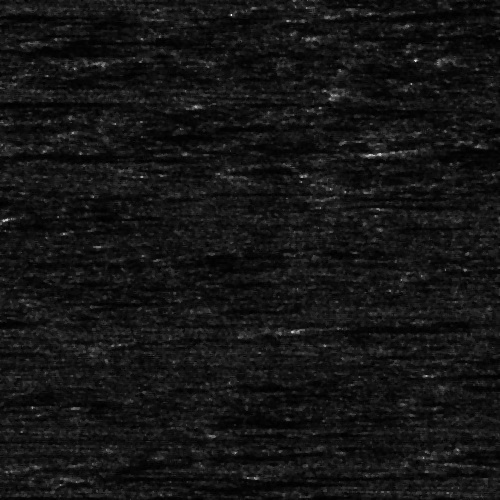object: (236, 319, 351, 336), (399, 450, 492, 459), (371, 144, 444, 155), (310, 30, 363, 41), (429, 374, 450, 395), (148, 188, 201, 193), (0, 214, 43, 219), (23, 37, 54, 42), (66, 473, 87, 478), (278, 16, 309, 19)
shadow: (294, 319, 414, 336), (336, 30, 500, 41), (0, 148, 194, 155), (439, 374, 500, 395), (0, 11, 122, 20), (408, 144, 500, 155), (38, 37, 214, 42), (17, 214, 181, 219), (76, 473, 239, 478), (0, 98, 128, 103), (175, 188, 292, 193), (445, 450, 500, 459), (294, 16, 418, 19), (0, 492, 67, 495), (223, 431, 280, 434)
